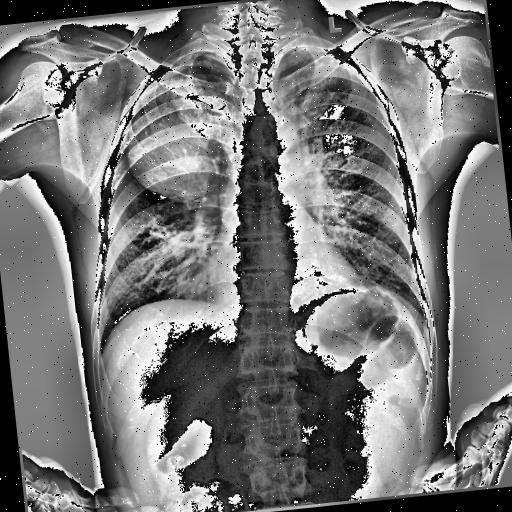4- Consolidation: (116, 65, 232, 206)
5- ILD: (322, 125, 410, 291), (102, 220, 208, 314)
7- Lung Opacity: (116, 65, 232, 206)
8- Nodule-Mass: (122, 62, 236, 206), (116, 65, 232, 206), (120, 70, 235, 201)
